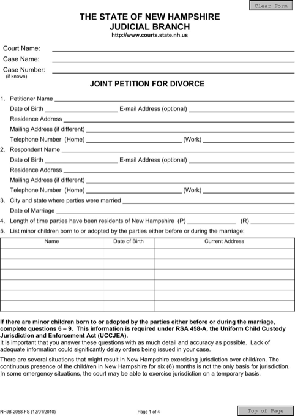textbox: (152, 246, 295, 261), (152, 267, 295, 282), (152, 288, 295, 303), (152, 299, 295, 314), (152, 257, 295, 271), (152, 278, 295, 292), (1, 287, 105, 303), (1, 298, 105, 314), (1, 246, 105, 261), (1, 256, 105, 271), (1, 267, 105, 282), (1, 277, 105, 292), (102, 298, 156, 314), (102, 288, 156, 303), (102, 278, 156, 293), (102, 267, 156, 282), (102, 257, 156, 272), (102, 246, 156, 261)
textline: (56, 205, 295, 216), (62, 164, 295, 175), (51, 43, 295, 53), (51, 54, 295, 64), (51, 65, 295, 75), (52, 93, 295, 103), (61, 144, 295, 154), (62, 113, 295, 123), (85, 175, 295, 185), (86, 124, 295, 133), (121, 195, 295, 205), (187, 155, 295, 165), (187, 104, 295, 113), (202, 134, 295, 144), (85, 134, 183, 143), (85, 186, 183, 195), (202, 186, 295, 195), (43, 155, 119, 165), (43, 104, 119, 113), (186, 216, 238, 226), (249, 216, 295, 226)
